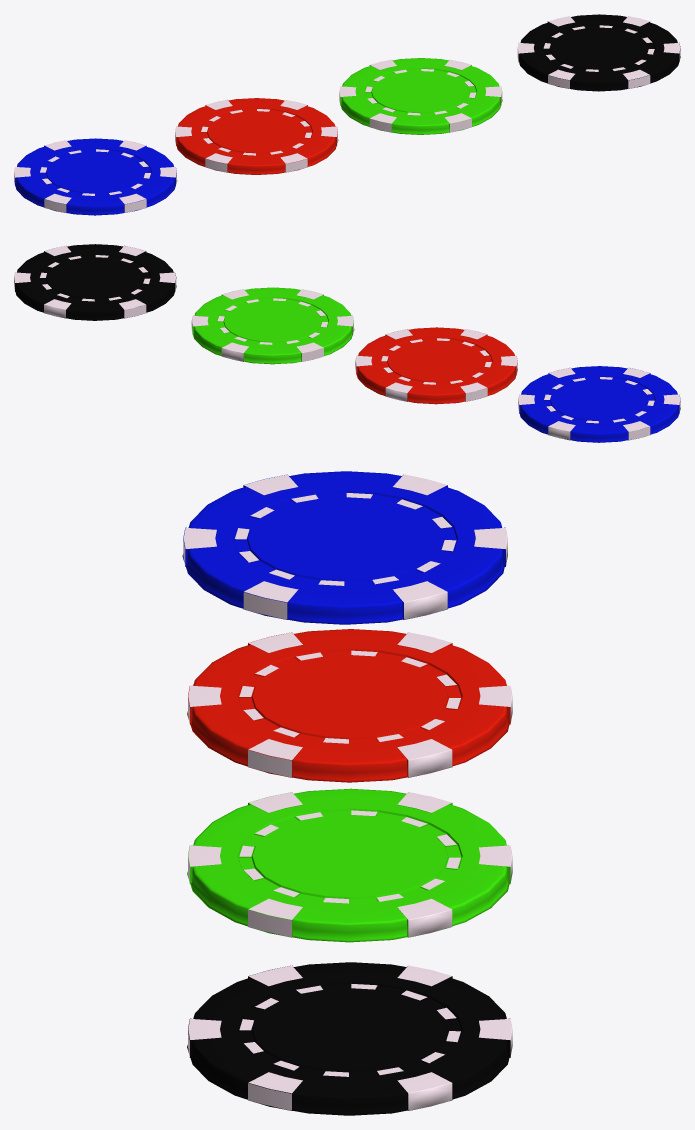
Rendered from roulette chips.fbx.
3 views of the same model, one above another, from view 1: azimuth 30°, elevation 25°; view 2: azimuth 150°, elevation 25°; view 3: azimuth 270°, elevation 25° (orthographic). The views are drawn at different scales.
Parts seen in each view (by area): view 1: Casino_Color_Chips.003, Casino_Color_Chips.001, Casino_Color_Chips.002, Casino_Color_Chips; view 2: Casino_Color_Chips.002, Casino_Color_Chips, Casino_Color_Chips.001, Casino_Color_Chips.003; view 3: Casino_Color_Chips.001, Casino_Color_Chips, Casino_Color_Chips.002, Casino_Color_Chips.003.
Boxes of the visible parts, box(x1,y1,x2,y2) form: Casino_Color_Chips.003: box(517, 14, 680, 91); Casino_Color_Chips.001: box(175, 98, 338, 174); Casino_Color_Chips.002: box(339, 58, 502, 134); Casino_Color_Chips: box(14, 138, 177, 215); Casino_Color_Chips.002: box(191, 287, 354, 364); Casino_Color_Chips: box(518, 366, 680, 442); Casino_Color_Chips.001: box(355, 327, 517, 404); Casino_Color_Chips.003: box(14, 244, 176, 320); Casino_Color_Chips.001: box(187, 629, 512, 782); Casino_Color_Chips: box(182, 471, 507, 624); Casino_Color_Chips.002: box(187, 788, 512, 942); Casino_Color_Chips.003: box(187, 962, 512, 1115).
Size of the model in its own units: 361 by 4.84 by 80.01.
